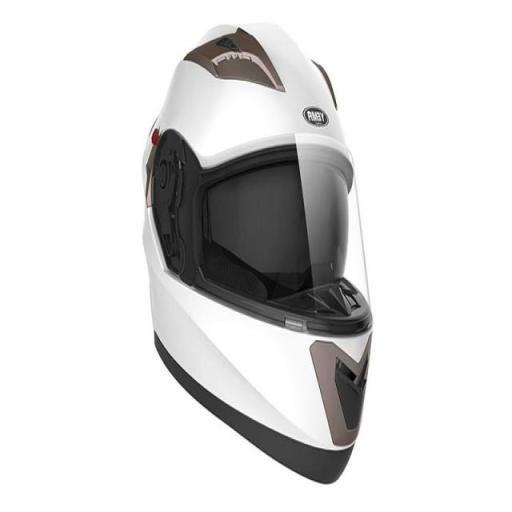Helmet: (144, 24, 371, 482)
